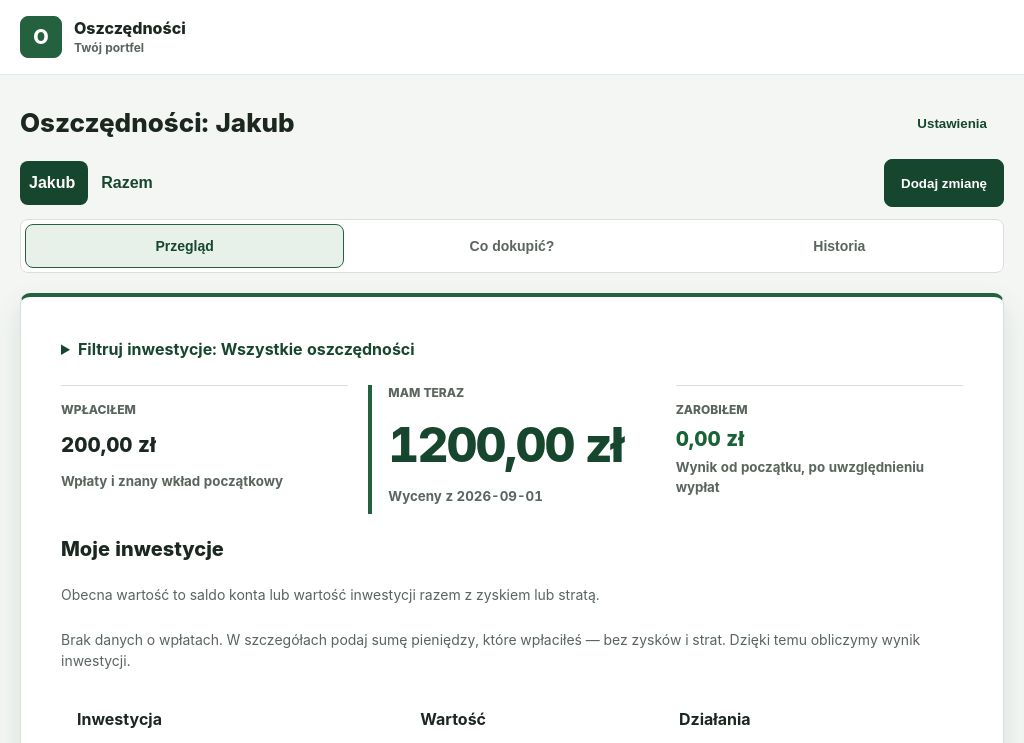
Test case: savings regressions › keeps gold filter value, investment rows and chart in the same scope and hides inactive panels
Click the heading "Filtruj inwestycje: Wszystkie oszczędności".
click(246, 349)  # box x1=78 y1=339 x2=415 y2=359
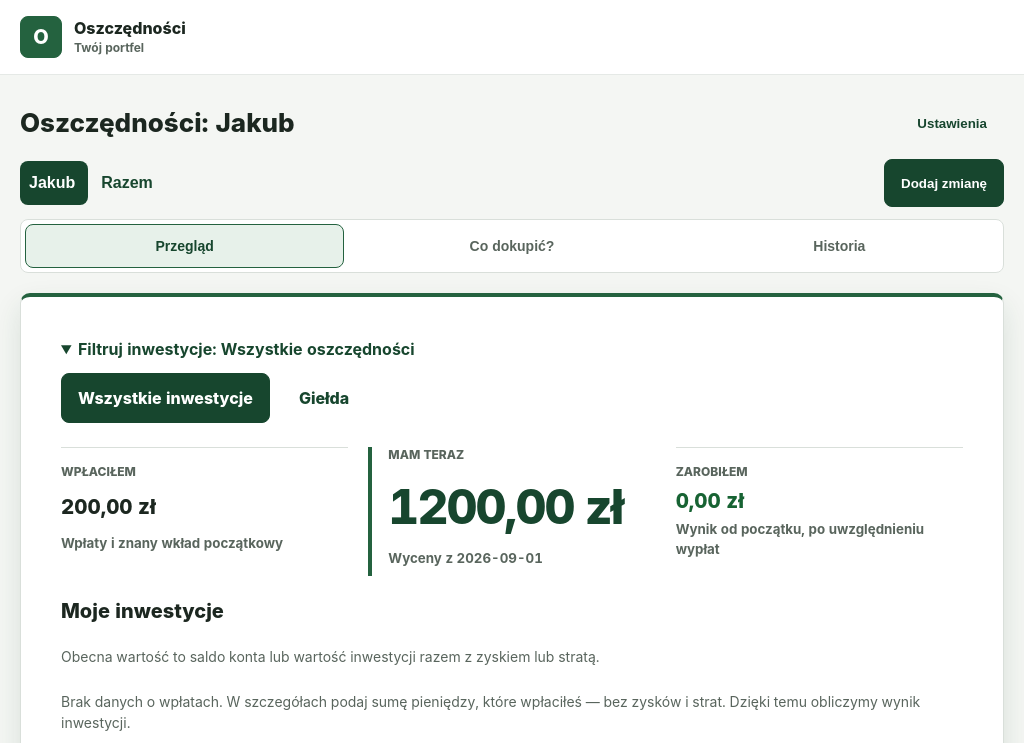
Click the button "Giełda".
click(324, 398)  # box x1=282 y1=373 x2=366 y2=423
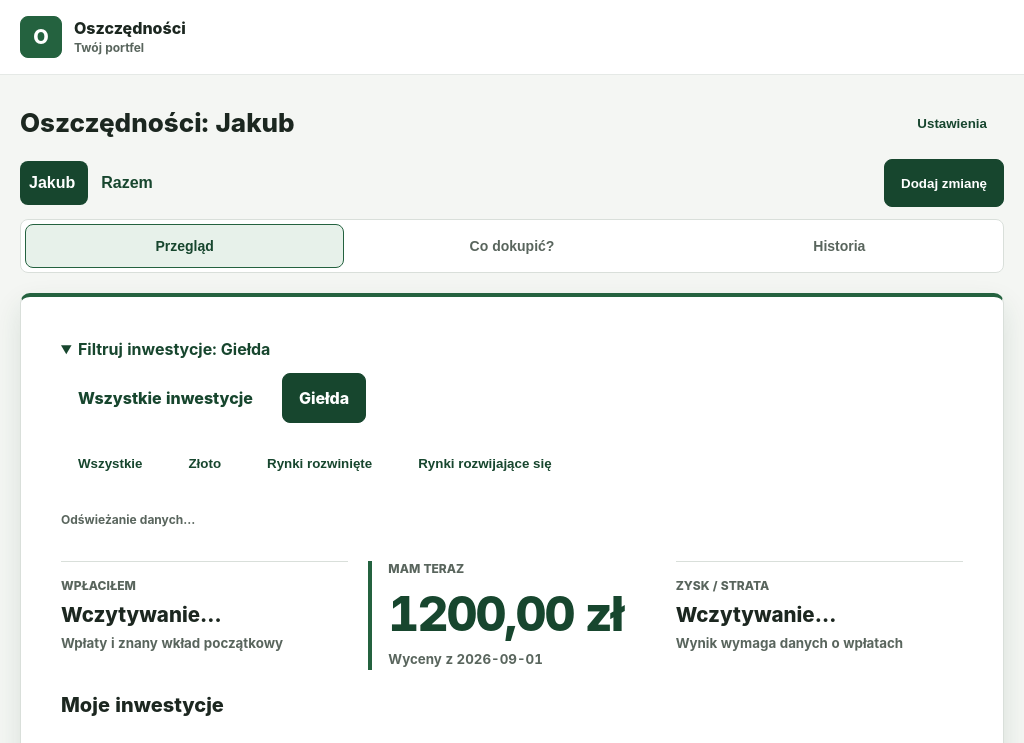
Click the button "Złoto".
click(205, 463)  # box x1=172 y1=439 x2=238 y2=487
(page scrolled)
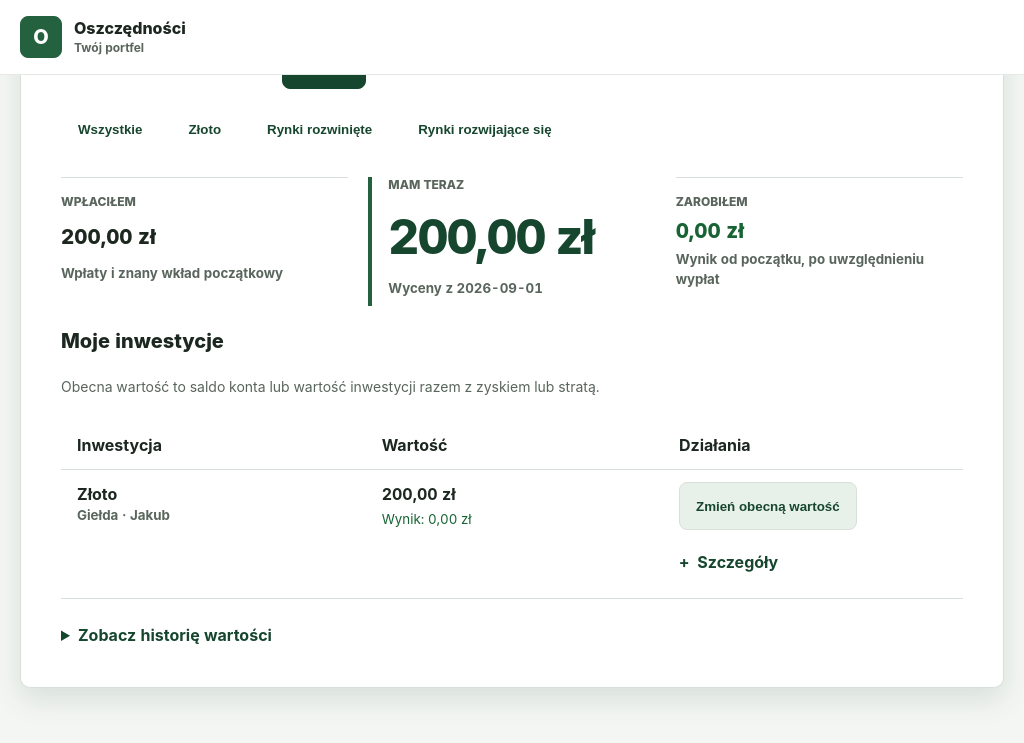
Click the heading "Zobacz historię wartości".
click(175, 635)  # box x1=78 y1=625 x2=272 y2=645
(page scrolled)
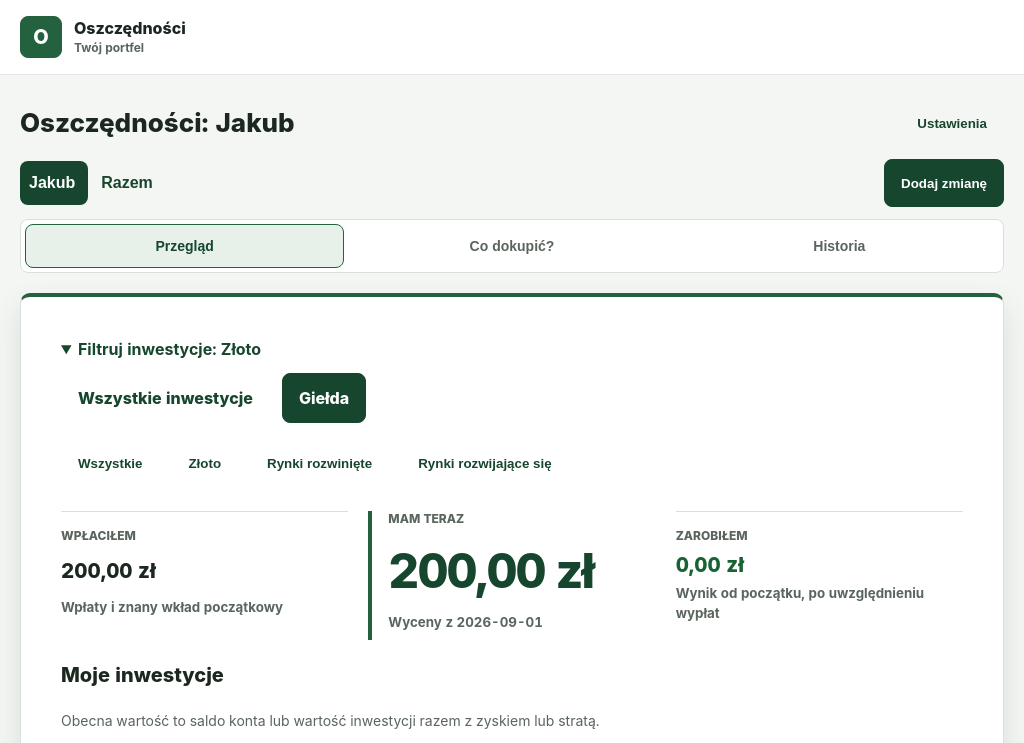
Click the button "Dodaj zmianę".
click(944, 183)  # box x1=884 y1=159 x2=1004 y2=207
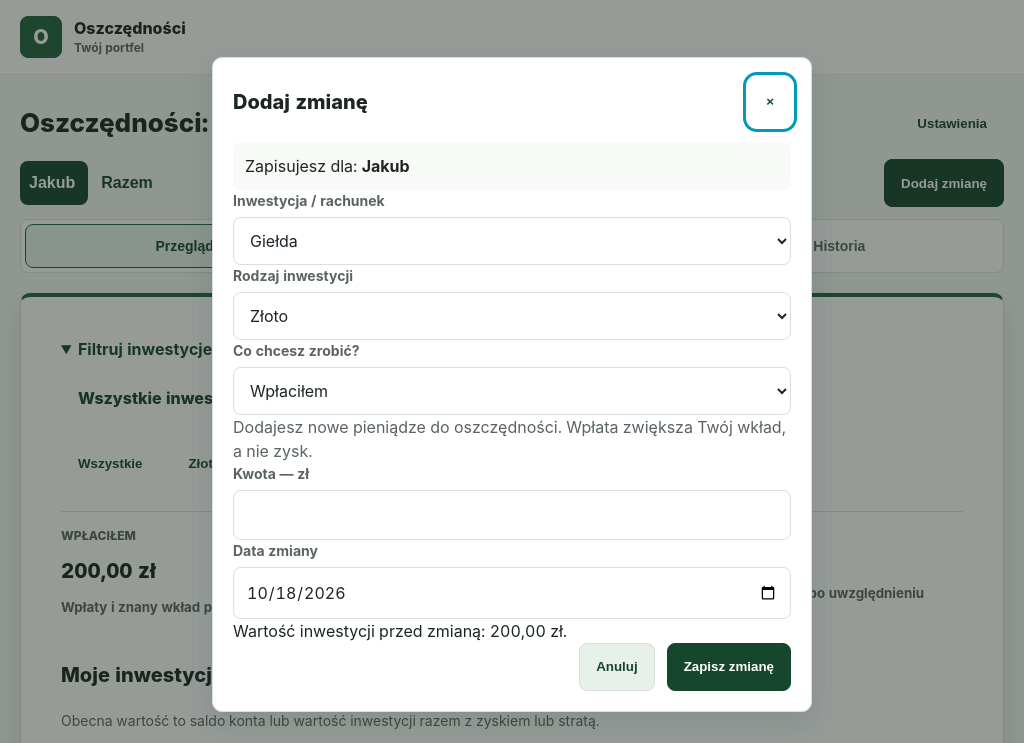
Now the dialog "Dodaj zmianę" is shown, box x1=212 y1=56 x2=812 y2=712
